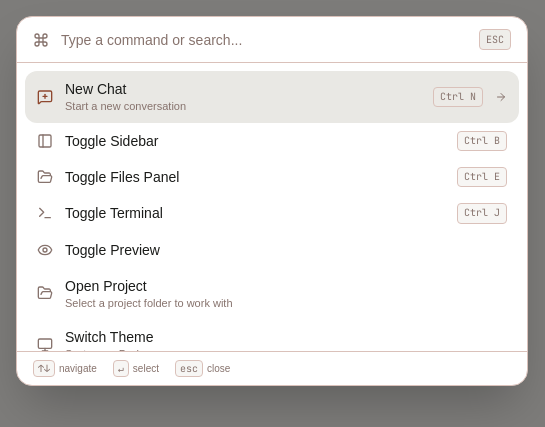
Scenario: CommandPalette › filters commands by query
The image size is (545, 427).
Type "sidebar" into the field with placeholder "Type a command or search..." at (264, 40), box [61,30,467,50]
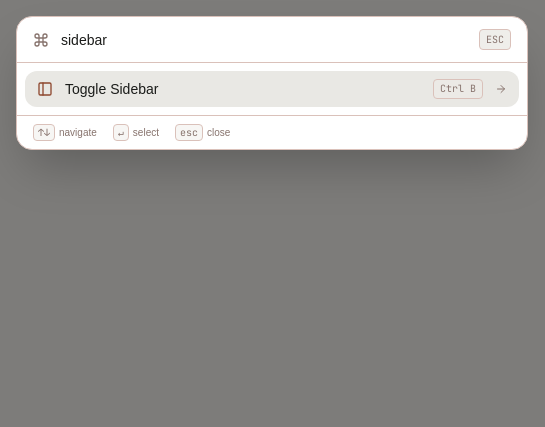
expect the text "Toggle Sidebar" is shown: met, box [65,81,158,97]
expect the button "New Chat" is gone: met
